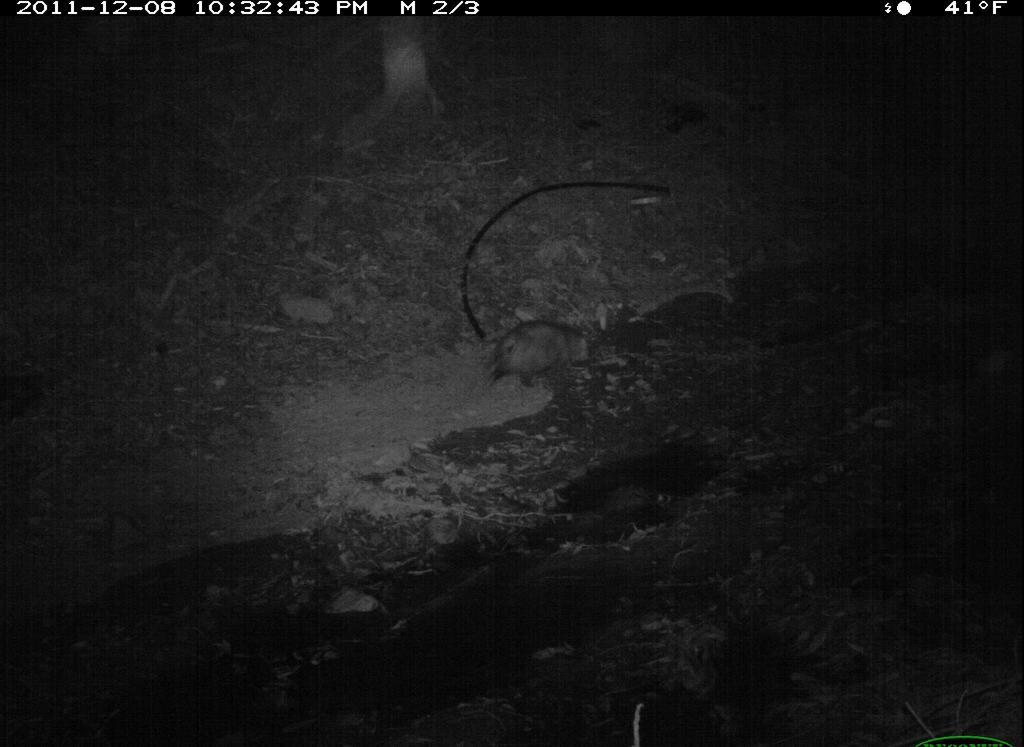opossum: (479, 303, 624, 399)
